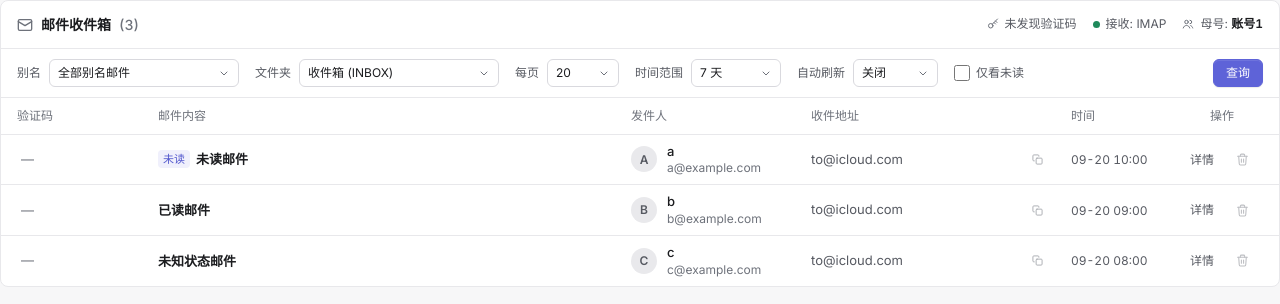
Test: 仅看未读只显示明确标记为未读的邮件
Expected: the button "未读邮件" is shown, [196,150,248,168]
Click the checkbox labelled "仅看未读" at (962, 73), box [954,65,970,81]
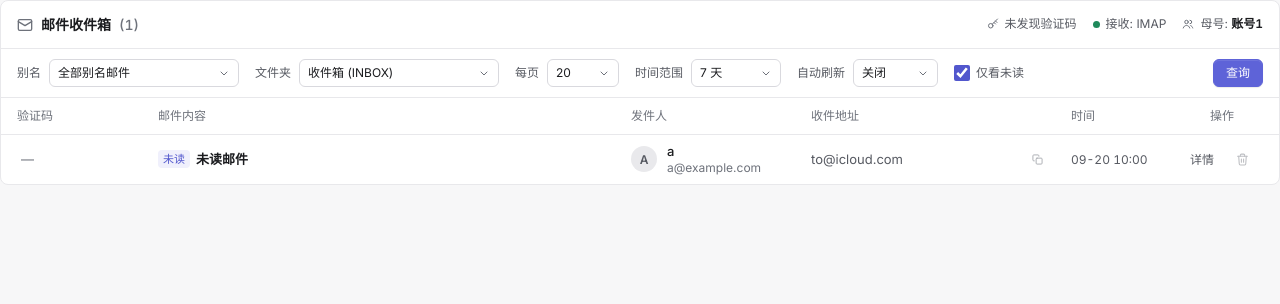
Expected: the button "未读邮件" is shown, [196,150,248,168]
Result: the button "已读邮件" is gone
Result: the button "未知状态邮件" is gone
